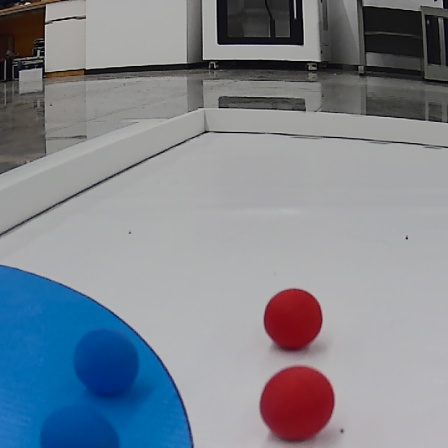blue: (71, 328, 139, 395), (40, 404, 118, 448)
blue_base: (0, 261, 196, 446)
red: (258, 365, 336, 441), (263, 288, 323, 349)
